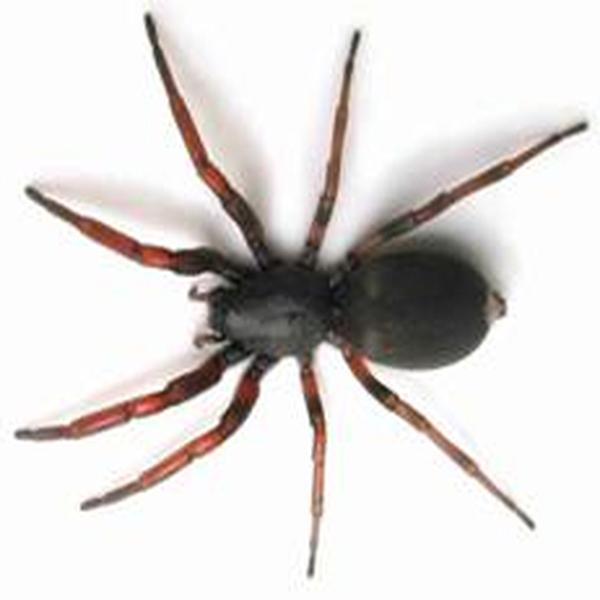White-Tailed_Spider: (18, 11, 586, 579)
